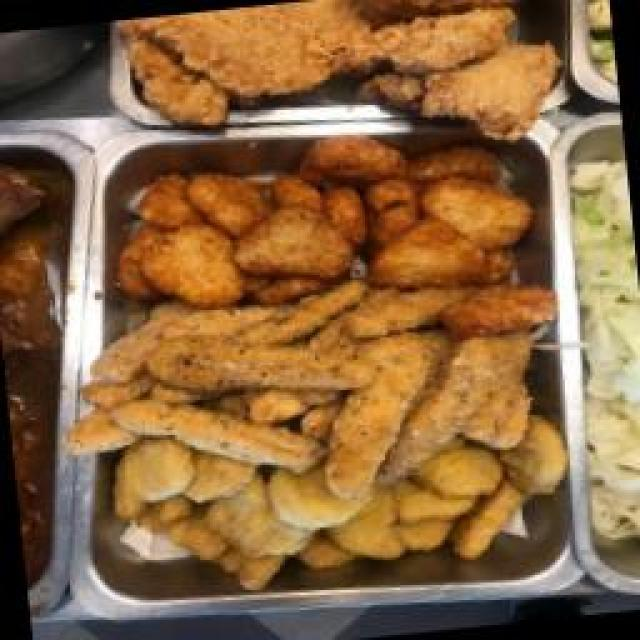chicken_nuggets: (183, 440, 523, 575)
chinese_cabbage: (577, 167, 640, 514)
fried_chicken: (153, 0, 538, 105)
triangle_hash_brown: (120, 148, 533, 303)
